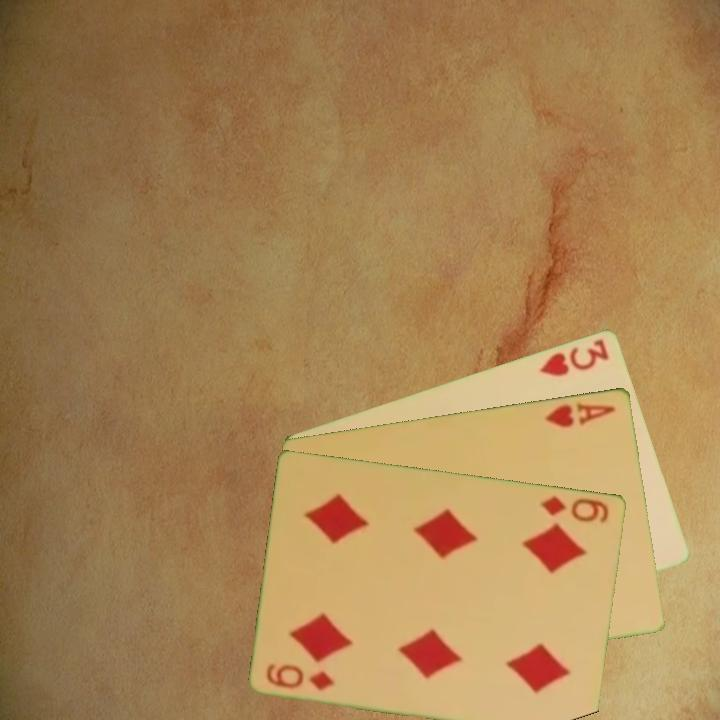3h: (536, 335, 612, 379)
6d: (263, 658, 338, 693), (537, 492, 612, 525)
Ah: (541, 399, 619, 430)
